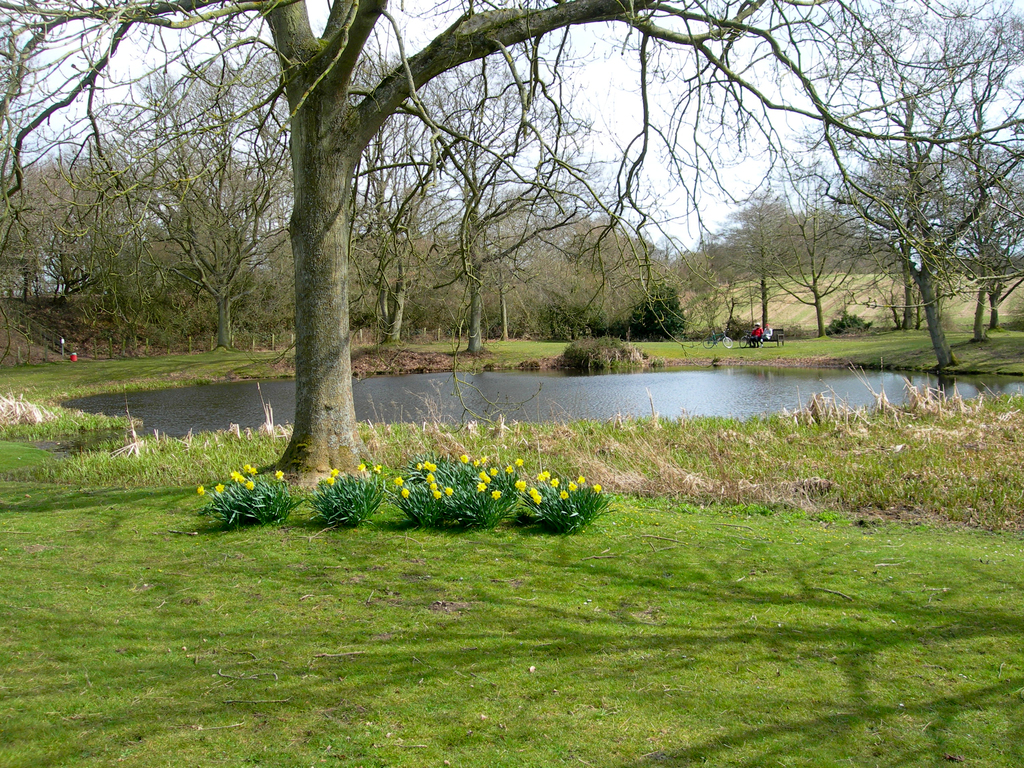Tree: (0, 0, 1023, 493), (785, 51, 995, 371)
